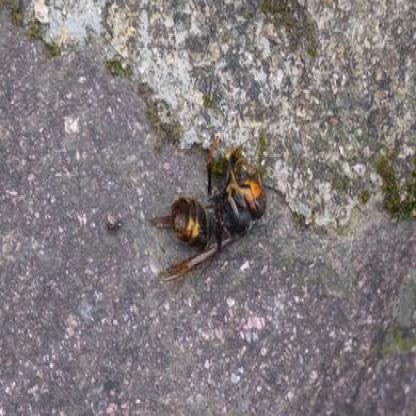Asian Hornet: (154, 141, 270, 282)
